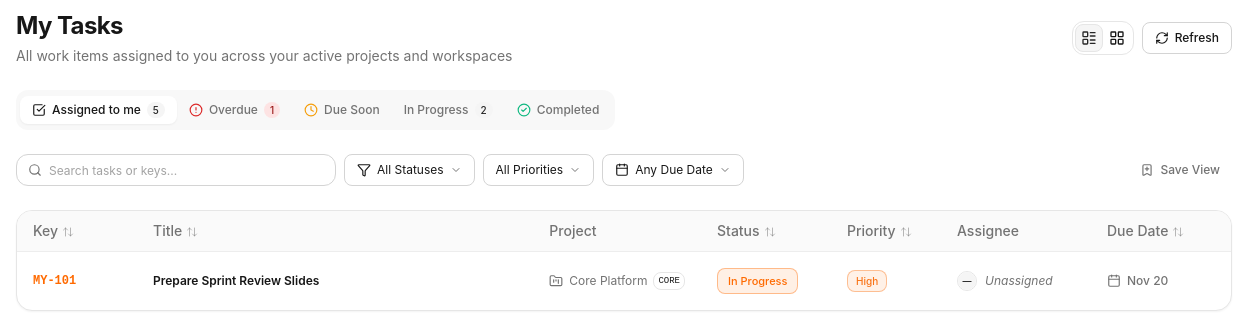
Scenario: MyTasksPage › switches to Overdue tab and loads overdue tasks
The image size is (1249, 328).
expect the text "Prepare Sprint Review Slides" is shown: met, box [153,272,319,288]
Click the tab "Overdue 1": click(234, 110) [177,96,292,124]
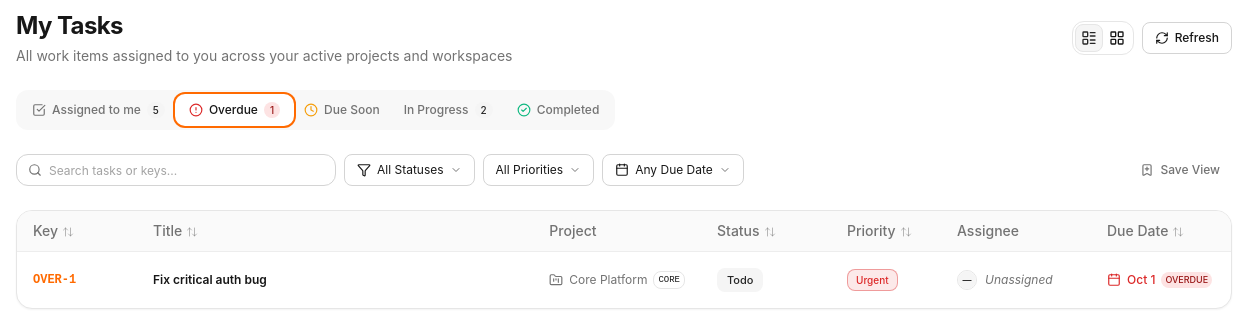
expect the text "Fix critical auth bug" is shown: met, box [153,272,267,286]
expect the text "OVER-1" is shown: met, box [17,251,137,308]
